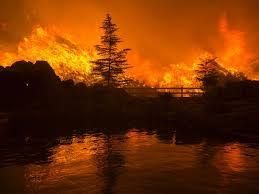fire: (145, 17, 259, 92)
